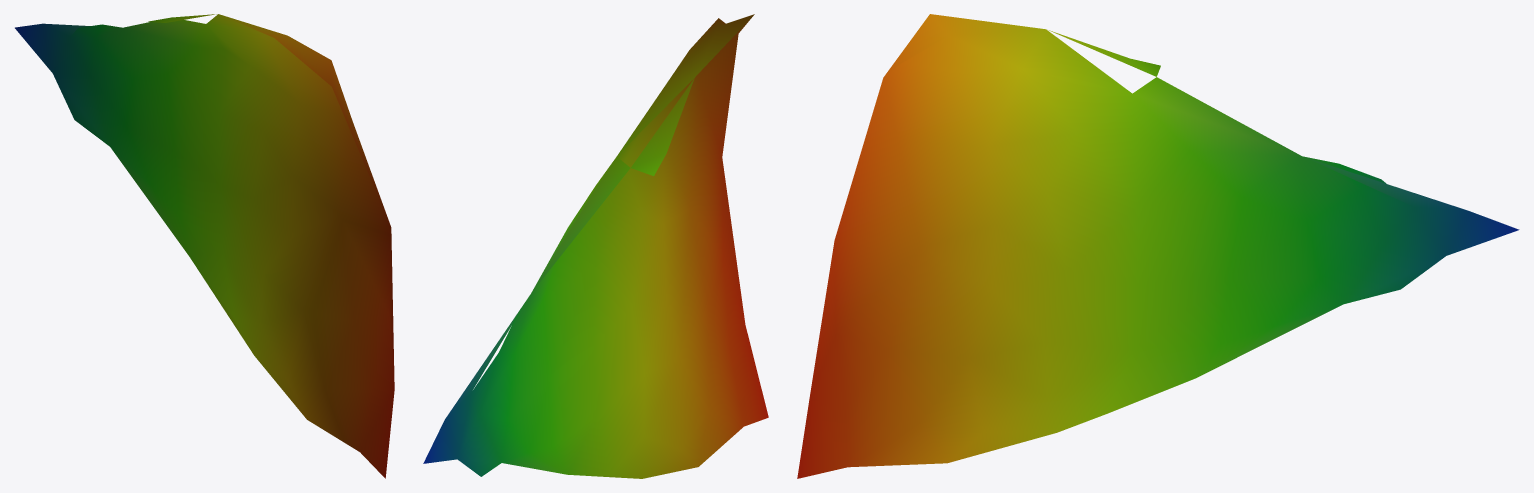
3 views of the same model, side by side, from view 1: azimuth 30°, elevation 25°; view 2: azimuth 150°, elevation 25°; view 3: azimuth 270°, elevation 25° (orthographic). The views are drawn at different scales.
Bounding box in the file's own units: 0.0269 × 0.1137 × 0.1697.
